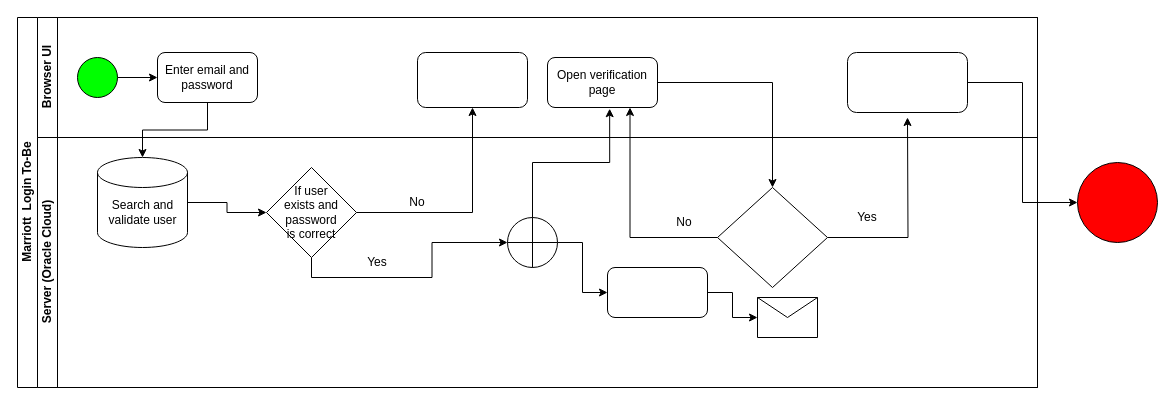
This 1175x405 diagram has some shape labels left out. The box of each missing label's shape, as (x1, y1, x2, y2) in pixels:
If verification code is correct: (716, 186, 828, 288)
Return unauthorized access: (416, 52, 528, 108)
Send 4-digit verification code to mail: (606, 266, 708, 318)
Successful Login: (846, 52, 968, 112)
